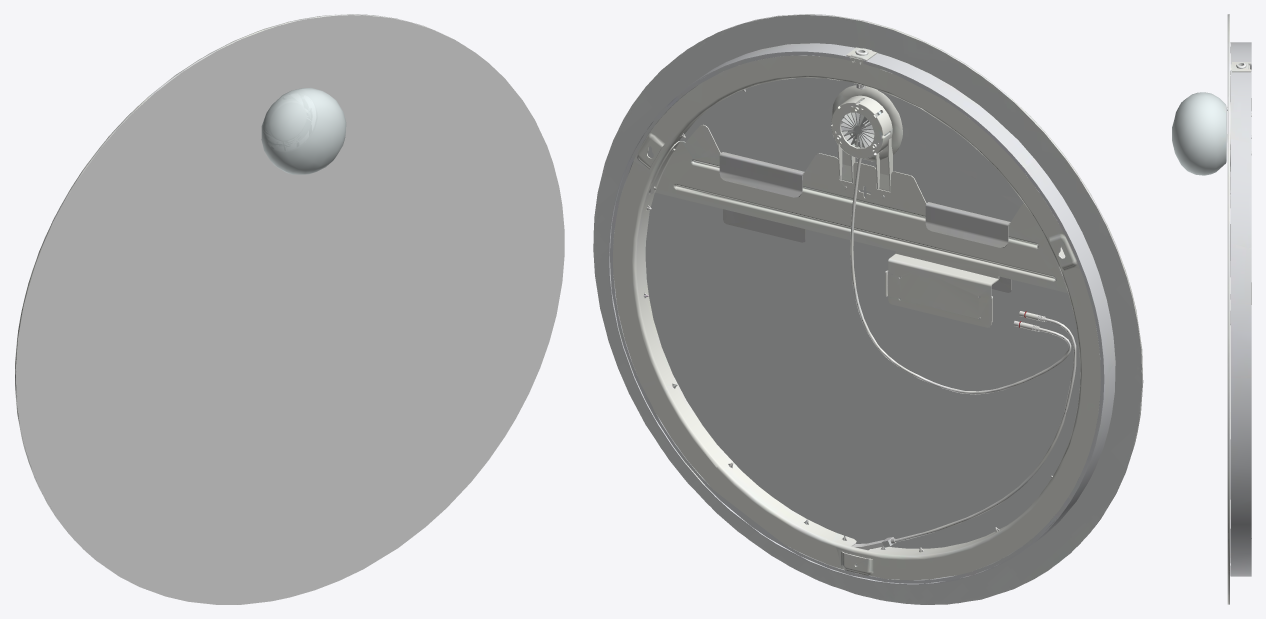
The model's file is 15 - FAXÄLVEN Mirror with built-in lighting 100 cm.glb.
The picture shows the model from 3 angles, left to right: view 1: azimuth 30°, elevation 25°; view 2: azimuth 150°, elevation 25°; view 3: azimuth 270°, elevation 25°; orthographic projection. The views are drawn at different scales.
Parts seen in each view (by area): view 1: 09516706_mirror_with_built_in_lighting, 09516706_mirror_with_built_in_lighting.002, 09516706_mirror_with_built_in_lighting.001; view 2: 09516706_mirror_with_built_in_lighting.001, 09516706_mirror_with_built_in_lighting; view 3: 09516706_mirror_with_built_in_lighting.001, 09516706_mirror_with_built_in_lighting.002.
Boxes of the visible parts, bbox=[...] form: 09516706_mirror_with_built_in_lighting: bbox=[15, 15, 564, 604]; 09516706_mirror_with_built_in_lighting.002: bbox=[261, 87, 346, 174]; 09516706_mirror_with_built_in_lighting.001: bbox=[15, 14, 464, 542]; 09516706_mirror_with_built_in_lighting.001: bbox=[593, 14, 1143, 604]; 09516706_mirror_with_built_in_lighting: bbox=[593, 15, 1142, 604]; 09516706_mirror_with_built_in_lighting.001: bbox=[1227, 14, 1251, 604]; 09516706_mirror_with_built_in_lighting.002: bbox=[1172, 92, 1226, 175].
Size of the model in its own units: 1 by 1 by 0.1353.
4 materials, 2 textured.
